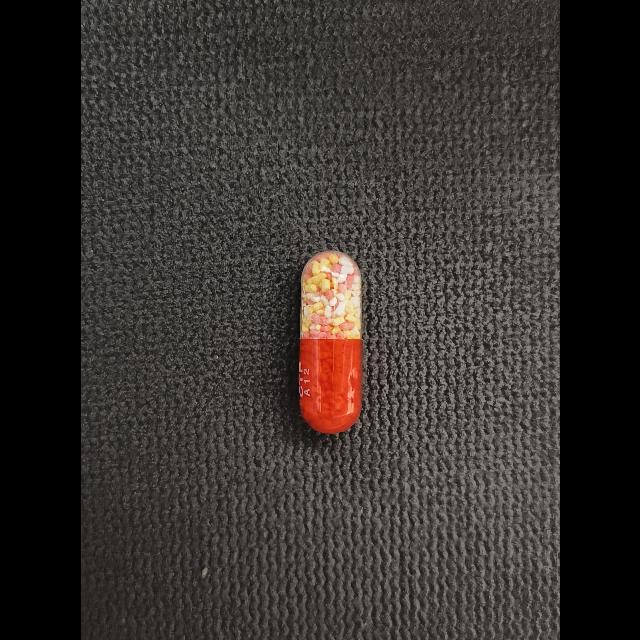Intact Capsule: (298, 251, 362, 434)
